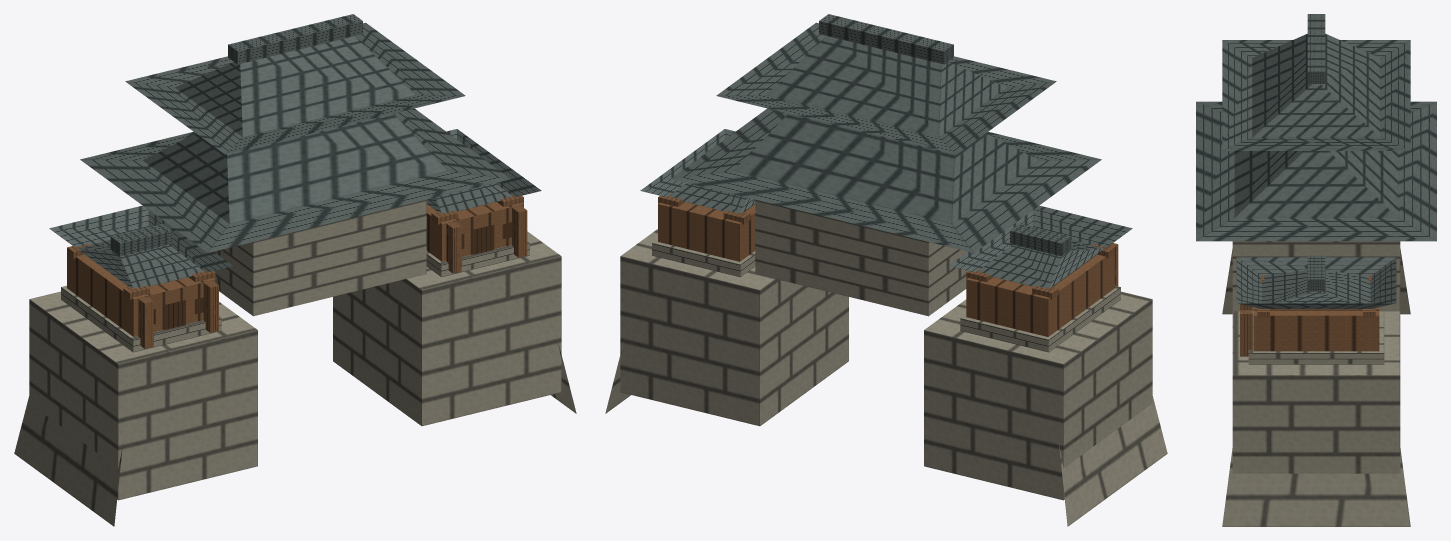
File: gate-lod1.glb
3 renders of one model, left to right at view 1: azimuth 30°, elevation 25°; view 2: azimuth 150°, elevation 25°; view 3: azimuth 270°, elevation 25°, orthographic. The views are drawn at different scales.
Size of the model in its own units: 0.96 by 0.796 by 0.46.
1 material, 1 textured.
